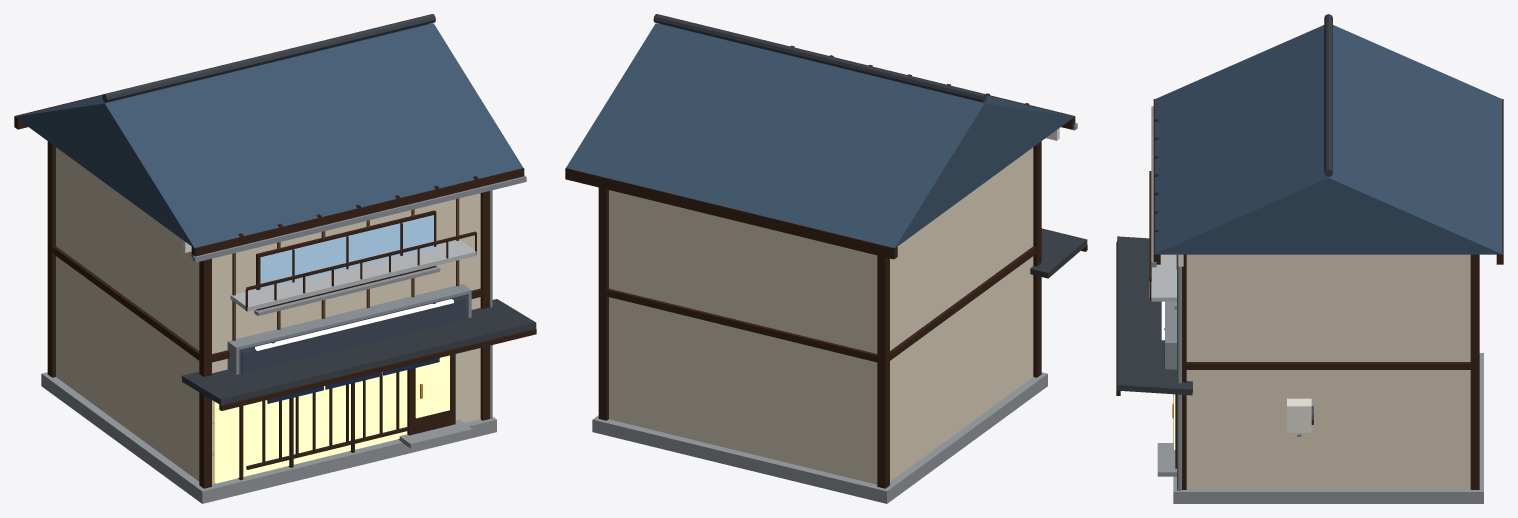
The model's file is shop_machiya_2f.glb.
3 renders of one model, left to right at view 1: azimuth 30°, elevation 25°; view 2: azimuth 150°, elevation 25°; view 3: azimuth 270°, elevation 25°, orthographic. The views are drawn at different scales.
Visible parts, largest first — view 1: roof.013, body.038, shop_glass.024, eave.013, base.039, win_glass.050, sign_face.031, balcony_slab.040, ridge.013, eave_front.013, sign_rim_top.029, post.148 (+14 smaller); view 2: body.038, roof.013, base.039, eave_back.013, beam.082, ridge.013, post.149, post.151, post.148, eave.013; view 3: roof.013, body.038, eave.013, base.039, post.151, beam.082, ridge.013, balcony_slab.040, post.150, downpipe.012, ac_body.050, threshold.031 (+2 smaller).
Part boxes in pixels (<box>): roof.013: <box>15,23,523,247</box>; body.038: <box>56,147,480,484</box>; shop_glass.024: <box>214,370,407,483</box>; eave.013: <box>181,299,536,405</box>; base.039: <box>41,372,496,503</box>; win_glass.050: <box>260,215,433,289</box>; sign_face.031: <box>241,297,466,373</box>; balcony_slab.040: <box>230,239,476,311</box>; ridge.013: <box>102,14,435,102</box>; eave_front.013: <box>191,168,524,257</box>; sign_rim_top.029: <box>227,284,471,350</box>; post.148: <box>199,258,211,488</box>; body.038: <box>609,147,1033,484</box>; roof.013: <box>566,23,1074,247</box>; base.039: <box>592,372,1047,503</box>; eave_back.013: <box>565,168,897,259</box>; beam.082: <box>607,246,1036,362</box>; ridge.013: <box>653,14,986,102</box>; post.149: <box>877,255,889,488</box>; post.151: <box>598,187,608,420</box>; post.148: <box>1033,141,1041,377</box>; eave.013: <box>1030,228,1087,278</box>; roof.013: <box>1155,25,1502,254</box>; body.038: <box>1186,254,1470,488</box>; eave.013: <box>1117,236,1192,395</box>; base.039: <box>1173,353,1483,503</box>; post.151: <box>1470,254,1479,489</box>; beam.082: <box>1186,362,1470,369</box>; ridge.013: <box>1324,14,1332,176</box>; balcony_slab.040: <box>1149,254,1176,301</box>; post.150: <box>1182,254,1186,489</box>; downpipe.012: <box>1177,254,1181,490</box>; ac_body.050: <box>1287,398,1311,432</box>; threshold.031: <box>1157,443,1176,476</box>.
Size of the model in its own units: 8.3 by 8.5 by 8.7.
